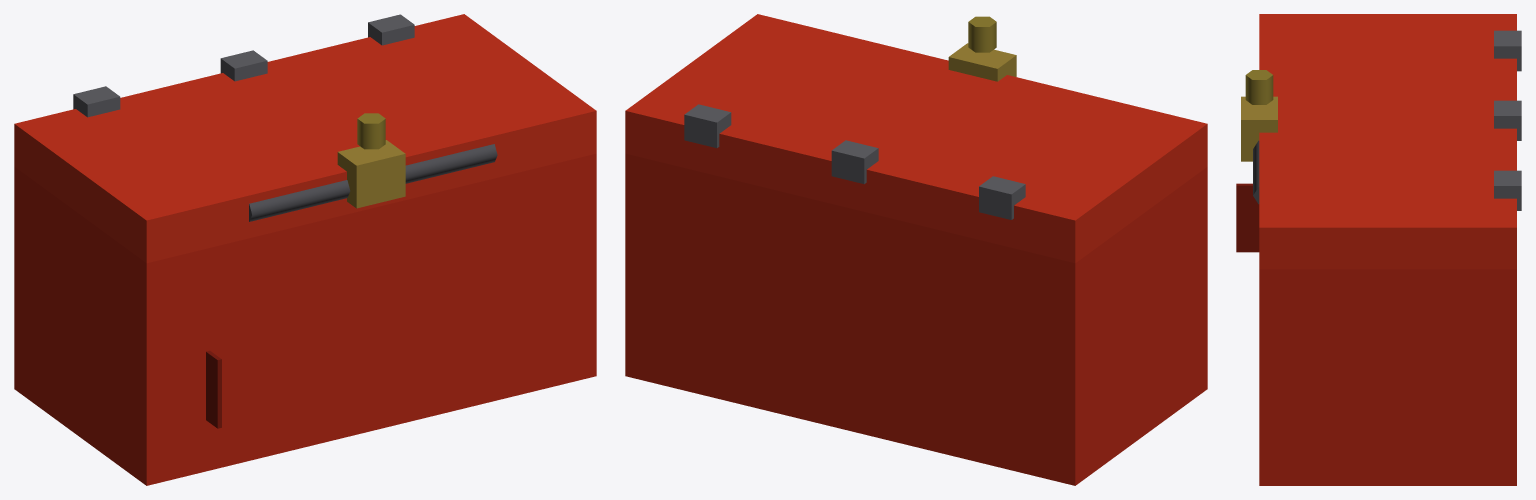
Rendered from toolbox_collectible.obj.
3 renders of one model, left to right at view 1: azimuth 30°, elevation 25°; view 2: azimuth 150°, elevation 25°; view 3: azimuth 270°, elevation 25°, orthographic. The views are drawn at different scales.
Visible parts, largest first — view 1: box_0, box_1, cyl_7, box_5, box_9, box_3, box_2, box_4, cyl_6; view 2: box_0, box_1, box_5, box_3, box_4, box_2, cyl_6; view 3: box_1, box_0, box_5, box_9, cyl_6, box_2, box_3, box_4, cyl_7.
Part boxes in pixels (<box>): box_0: <box>14,153,596,485</box>; box_1: <box>14,14,596,263</box>; cyl_7: <box>249,144,497,221</box>; box_5: <box>337,140,405,208</box>; box_9: <box>206,350,221,428</box>; box_3: <box>220,50,267,81</box>; box_2: <box>73,86,120,117</box>; box_4: <box>368,14,414,45</box>; cyl_6: <box>357,113,385,149</box>; box_0: <box>625,153,1207,485</box>; box_1: <box>625,14,1207,263</box>; box_5: <box>948,43,1016,81</box>; box_3: <box>831,140,878,184</box>; box_4: <box>684,104,731,148</box>; box_2: <box>979,176,1025,219</box>; cyl_6: <box>968,16,996,52</box>; box_1: <box>1259,14,1516,269</box>; box_0: <box>1259,269,1516,485</box>; box_5: <box>1241,96,1277,161</box>; box_9: <box>1236,183,1259,252</box>; cyl_6: <box>1245,70,1273,104</box>; box_2: <box>1494,30,1521,71</box>; box_3: <box>1494,100,1521,140</box>; box_4: <box>1494,170,1521,210</box>; cyl_7: <box>1253,140,1259,204</box>.
Size of the model in its own units: 0.55 by 0.365 by 0.31.
